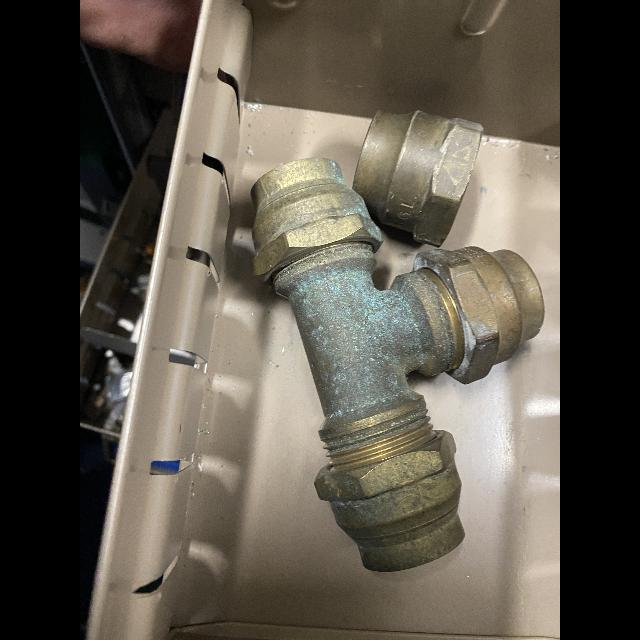Brass: (252, 159, 543, 571), (353, 111, 483, 245)
